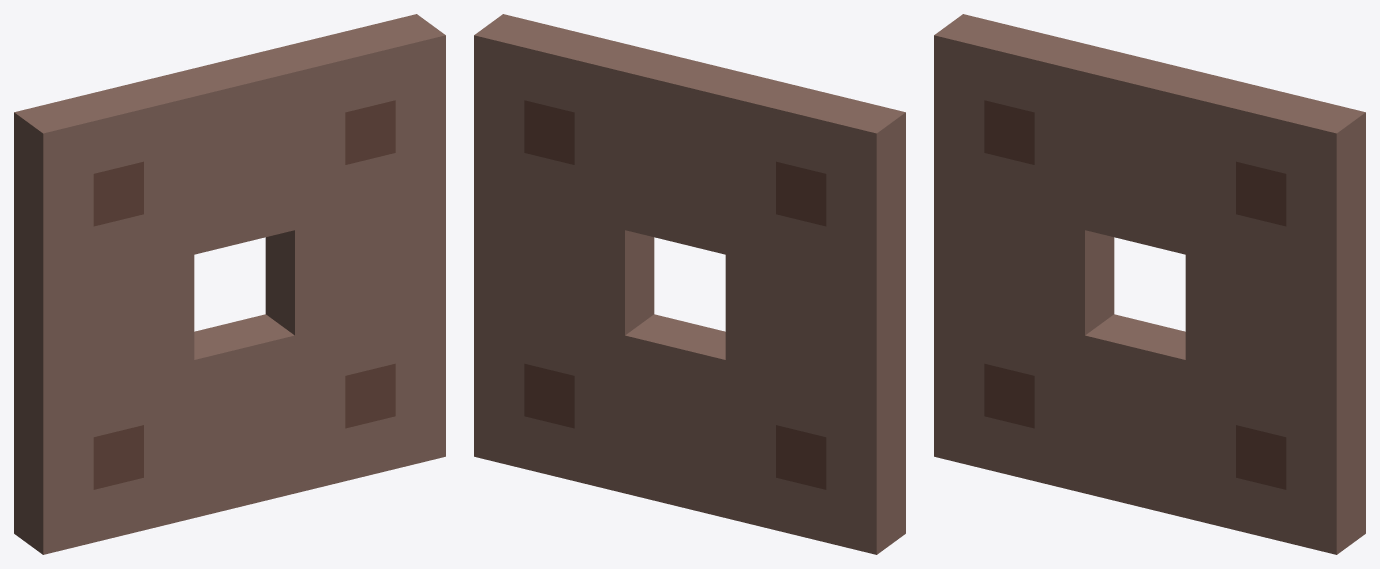
Rendered from Pear Trapdoor.glb.
3 renders of one model, left to right at view 1: azimuth 30°, elevation 25°; view 2: azimuth 150°, elevation 25°; view 3: azimuth 330°, elevation 25°, orthographic.
Parts seen in each view (by area): view 1: generated(Clone); view 2: generated(Clone); view 3: generated(Clone).
Boxes of the visible parts, x1,y1,x2,y2 form: generated(Clone): (14,14,445,554); generated(Clone): (474,14,905,554); generated(Clone): (934,14,1365,554).
Size of the model in its own units: 8 by 8 by 1.
Materials: 1 (1 with a texture image).
